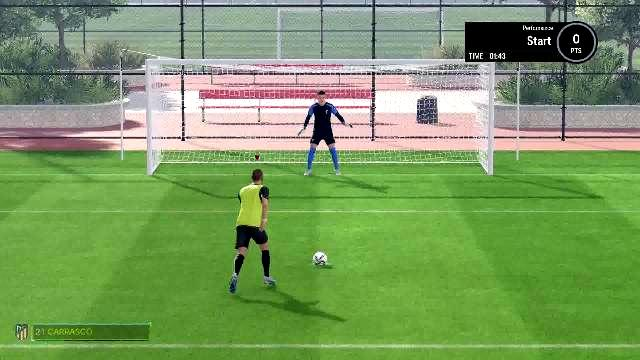bottom-left: (147, 119, 260, 175)
bottom-right: (374, 119, 488, 175)
center-down: (260, 118, 374, 176)
center-up: (260, 62, 374, 118)
football: (310, 250, 330, 266)
goalkeeper: (299, 88, 353, 176)
player: (226, 168, 280, 292)
top-left: (147, 62, 260, 118)
top-right: (374, 62, 488, 118)
